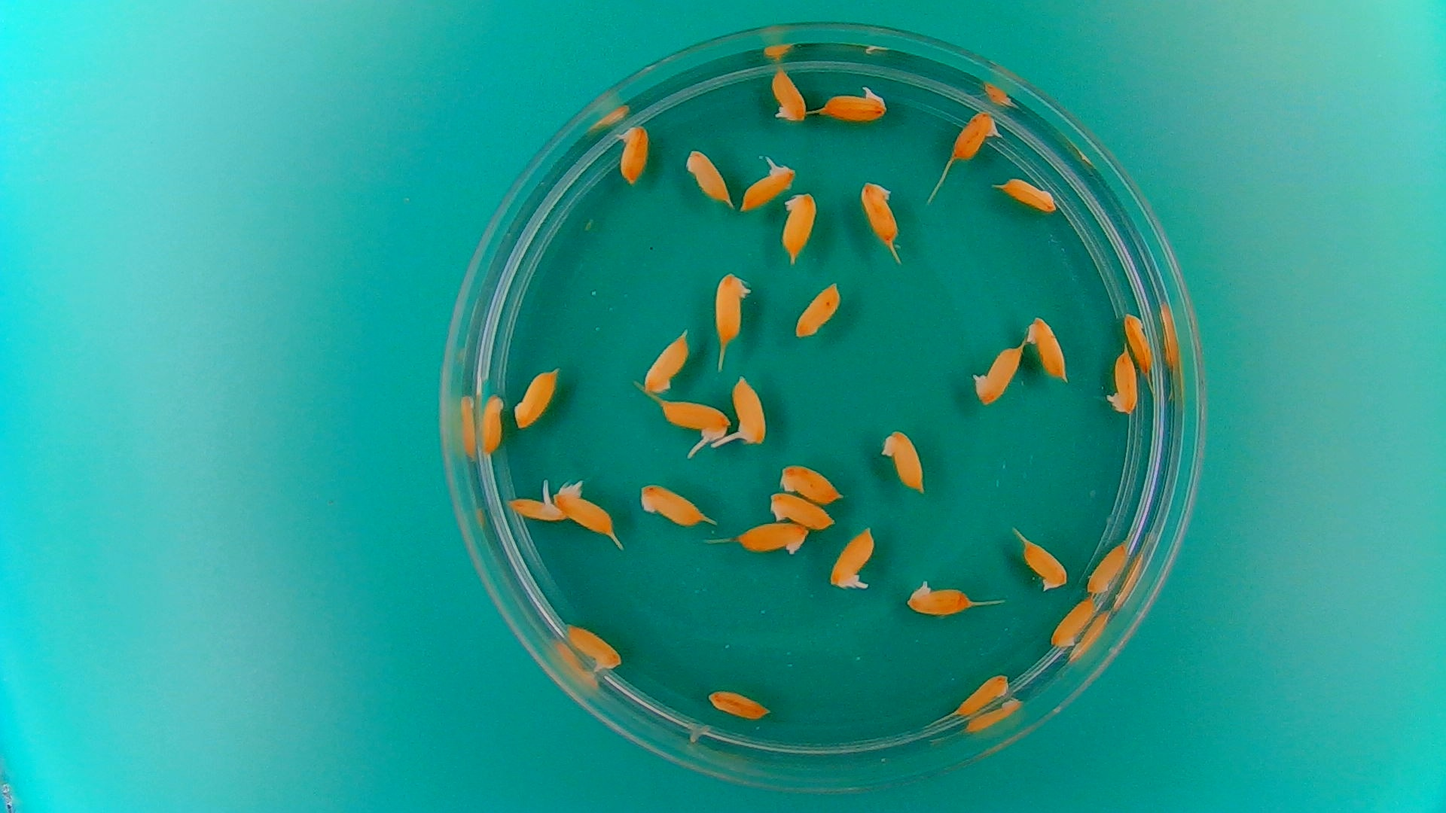no: (634, 324, 694, 397), (875, 425, 932, 500), (636, 478, 713, 530), (969, 339, 1027, 407), (706, 267, 753, 349), (856, 176, 903, 256), (1022, 313, 1072, 385), (511, 364, 562, 432), (682, 144, 734, 210), (776, 188, 819, 266), (1017, 533, 1071, 594), (950, 668, 1012, 720), (903, 575, 975, 619), (731, 520, 810, 560), (793, 279, 844, 340), (1046, 592, 1100, 648), (1082, 537, 1134, 595), (774, 461, 844, 504), (764, 490, 836, 531), (703, 684, 771, 724), (1105, 345, 1141, 418), (614, 121, 652, 189), (767, 64, 810, 124), (995, 175, 1059, 215), (1122, 311, 1155, 381), (479, 389, 509, 455)
yes: (553, 476, 619, 540), (564, 617, 627, 675), (945, 105, 1006, 163), (825, 528, 877, 596), (655, 397, 731, 443), (737, 158, 795, 212), (819, 82, 890, 124), (728, 379, 770, 449), (503, 485, 566, 523)
